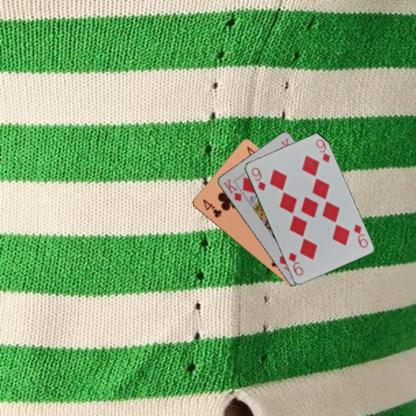4c: (200, 196, 223, 219)
9d: (248, 164, 266, 192), (350, 221, 368, 249)
Kd: (220, 176, 242, 203)
